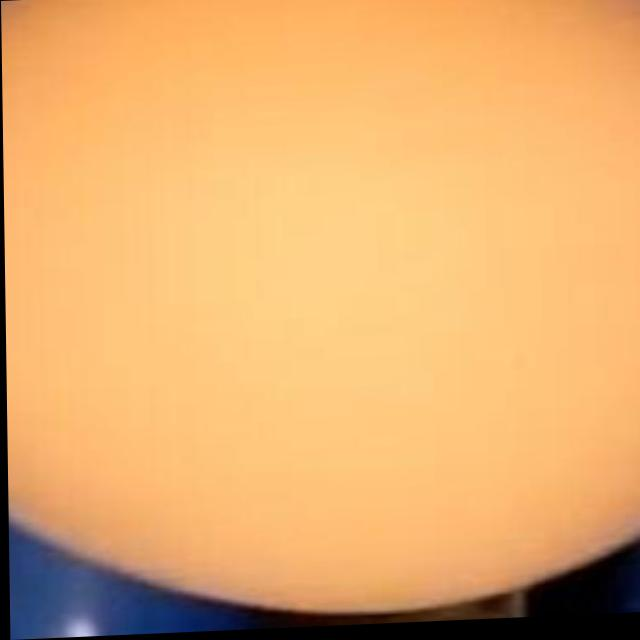fresh: (0, 0, 640, 614)
